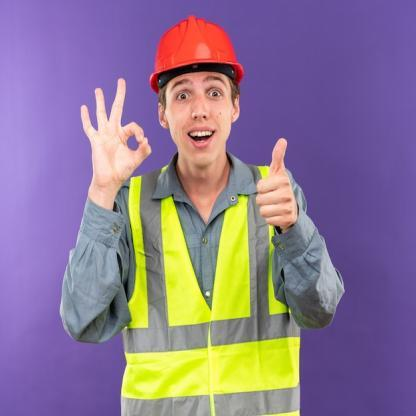ok: (76, 76, 152, 192)
